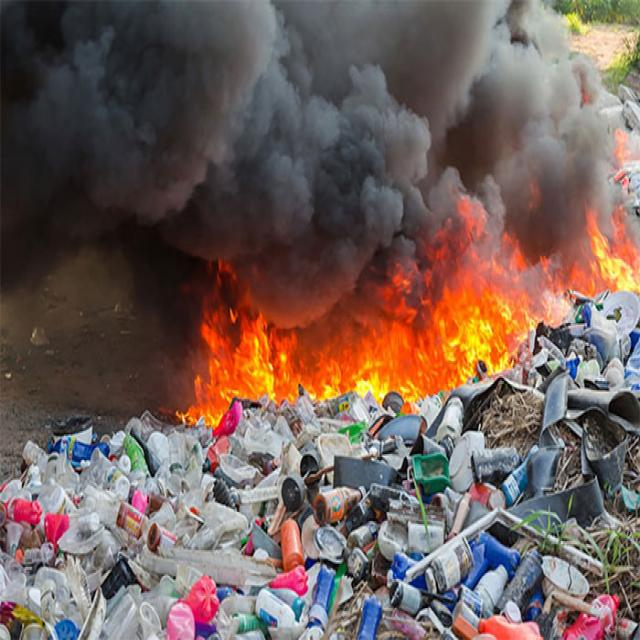fire: (291, 197, 504, 415), (502, 128, 640, 372), (153, 259, 291, 430)
